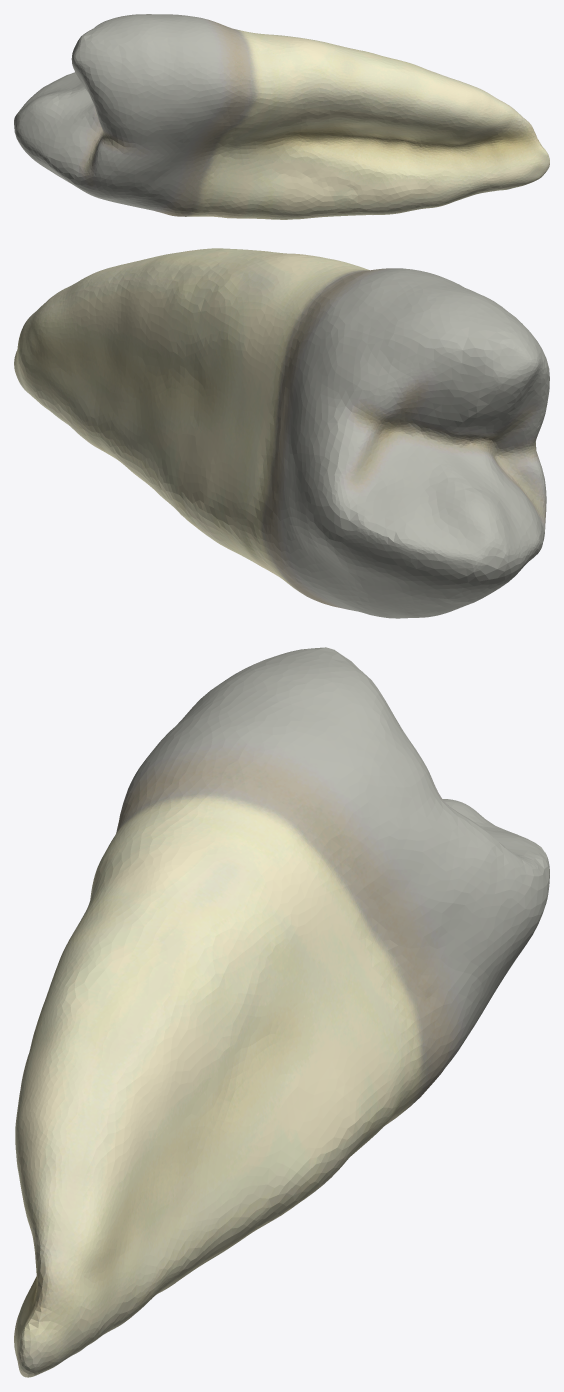
The model's file is 24 - quiz.glb.
3 renders of one model, top to bottom at view 1: azimuth 30°, elevation 25°; view 2: azimuth 150°, elevation 25°; view 3: azimuth 270°, elevation 25°, orthographic. The views are drawn at different scales.
Parts seen in each view (by area): view 1: 3MFMeshParent_0; view 2: 3MFMeshParent_0; view 3: 3MFMeshParent_0.
Part boxes in pixels (bbox=[...]): 3MFMeshParent_0: bbox=[14, 14, 549, 219]; 3MFMeshParent_0: bbox=[14, 248, 549, 618]; 3MFMeshParent_0: bbox=[14, 647, 549, 1377].
Size of the model in its own units: 0.512 by 0.241 by 0.279.
Materials: 1 (1 with a texture image).
